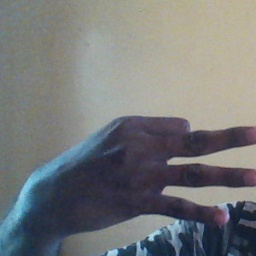K: (47, 117, 256, 239)
